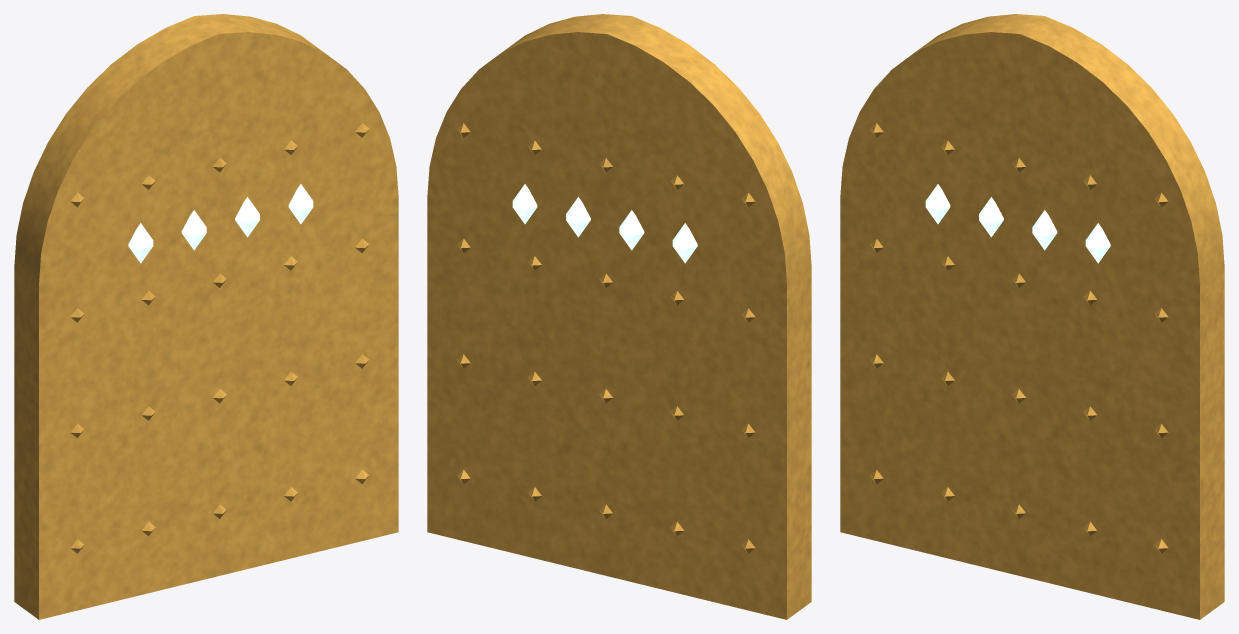
File: citadel_door_vault.glb
3 renders of one model, left to right at view 1: azimuth 30°, elevation 25°; view 2: azimuth 150°, elevation 25°; view 3: azimuth 330°, elevation 25°, orthographic.
Visible parts, largest first — view 1: door_vault_gold, door_vault_crystal; view 2: door_vault_gold, door_vault_crystal; view 3: door_vault_gold, door_vault_crystal.
Part boxes in pixels (left/top/right/bottom): door_vault_gold: left=14, top=14, right=398, bottom=619; door_vault_crystal: left=128, top=184, right=313, bottom=263; door_vault_gold: left=427, top=14, right=811, bottom=619; door_vault_crystal: left=512, top=184, right=697, bottom=263; door_vault_gold: left=840, top=14, right=1224, bottom=619; door_vault_crystal: left=925, top=184, right=1110, bottom=263.
Size of the model in its own units: 2.02 by 2.91 by 0.4012.
2 materials, 1 textured.
